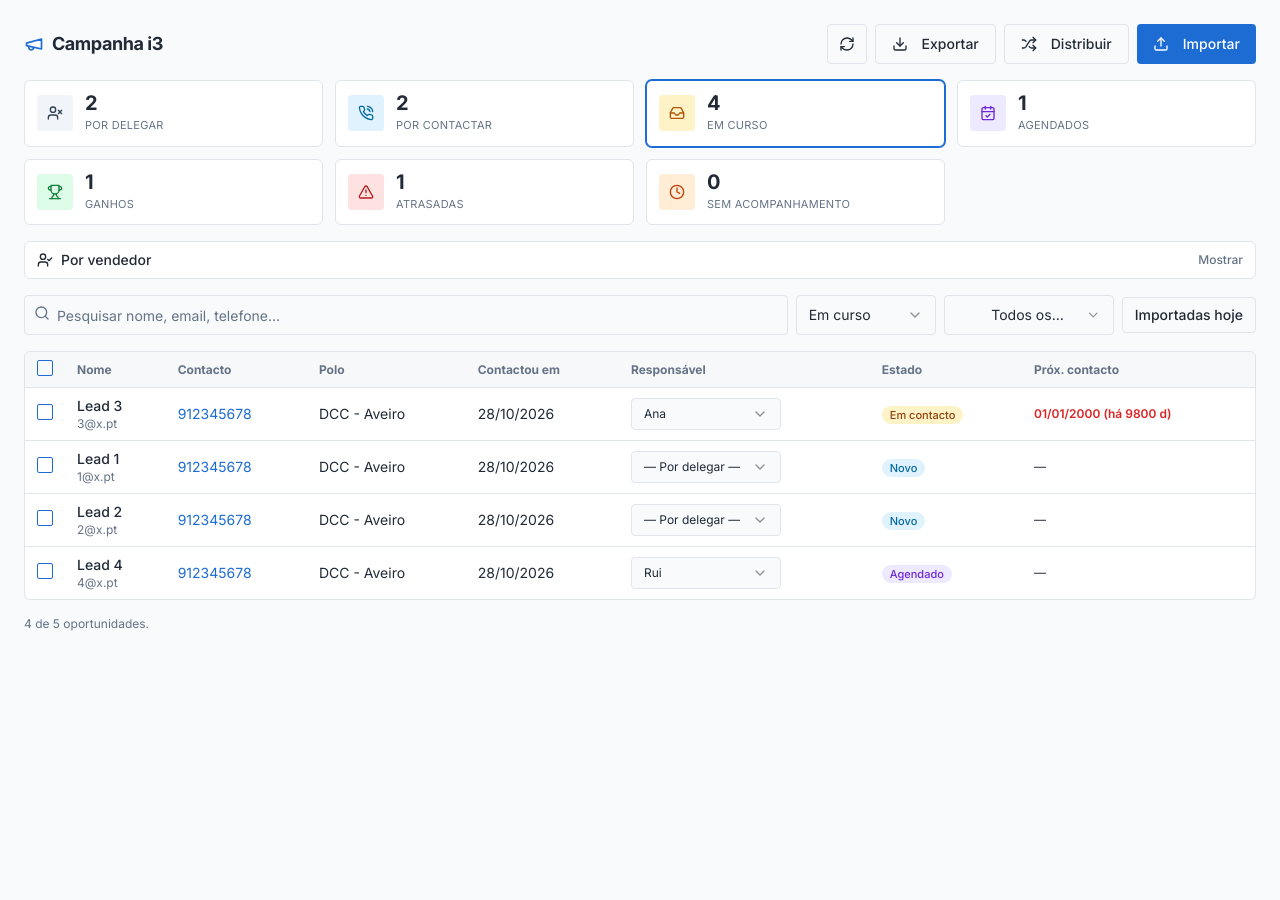
it: Campanha i3 — administrador › o atalho "Por delegar" filtra as sem responsável
This screenshot has width=1280, height=900.
Expected: the text "Lead 1" is shown, [77,450,119,467]
Click the button "2 Por delegar". click: (55, 113)
box: [24,80,323,146]
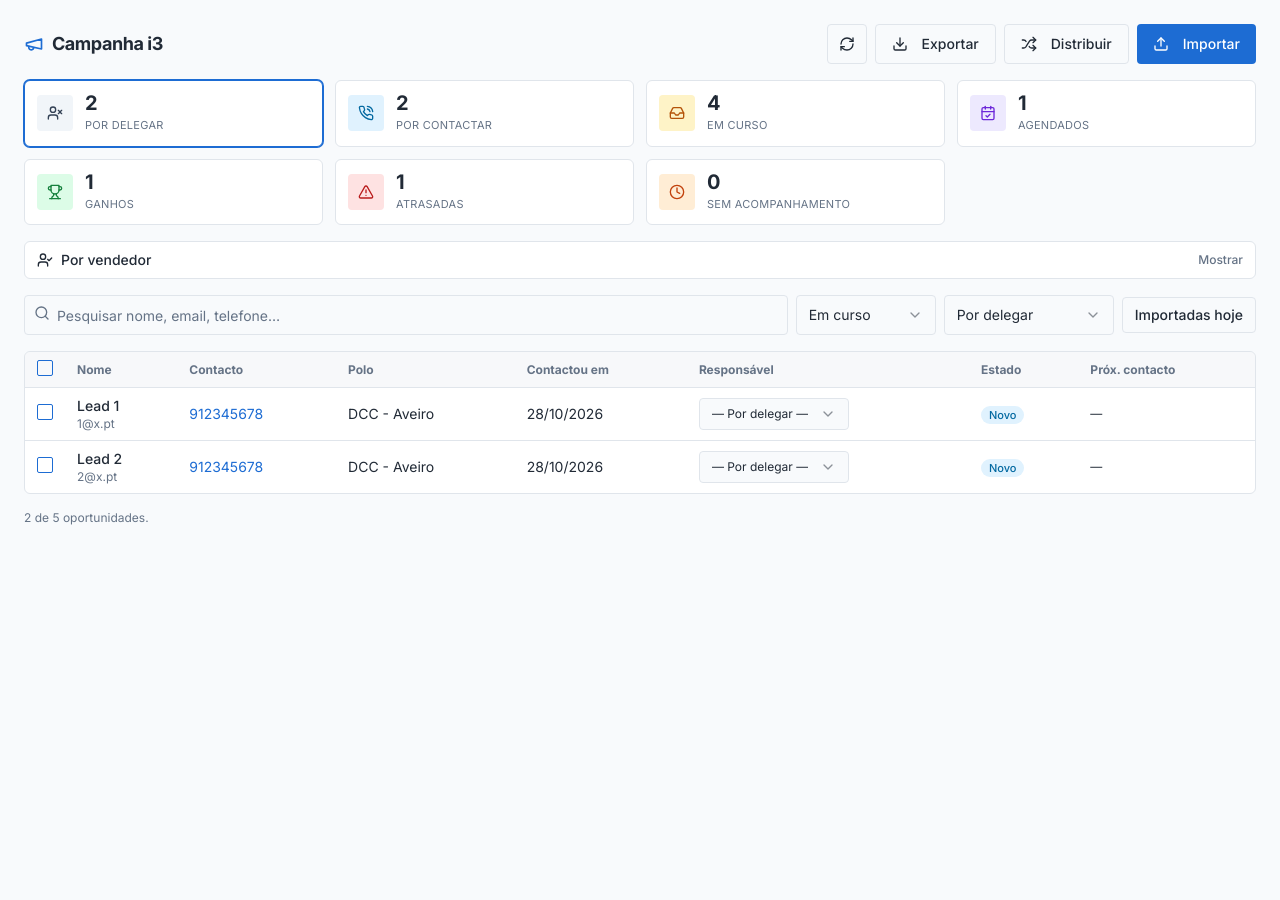
Expected: the text "Lead 1" is shown, [77,397,119,414]
Now the text "Lead 3" is gone
